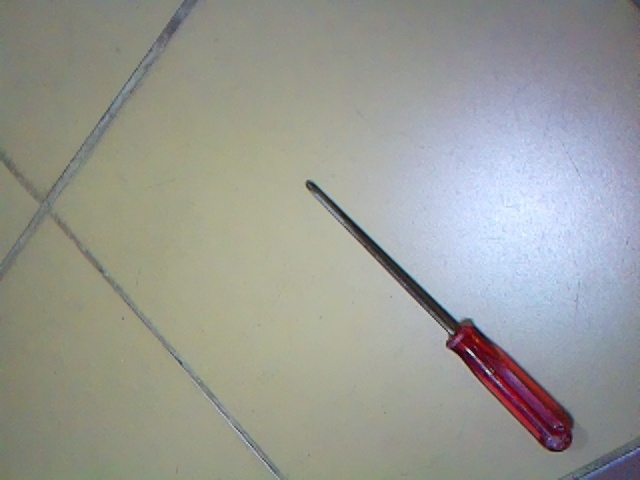redskrew: (301, 186, 590, 464)
